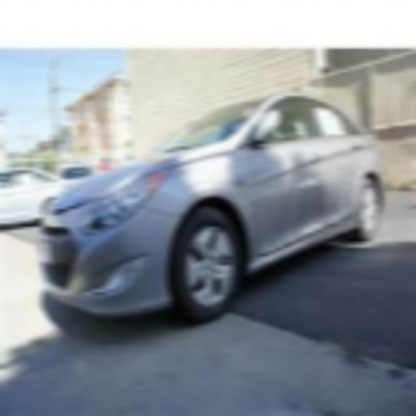Vehicle: (37, 89, 387, 324)
